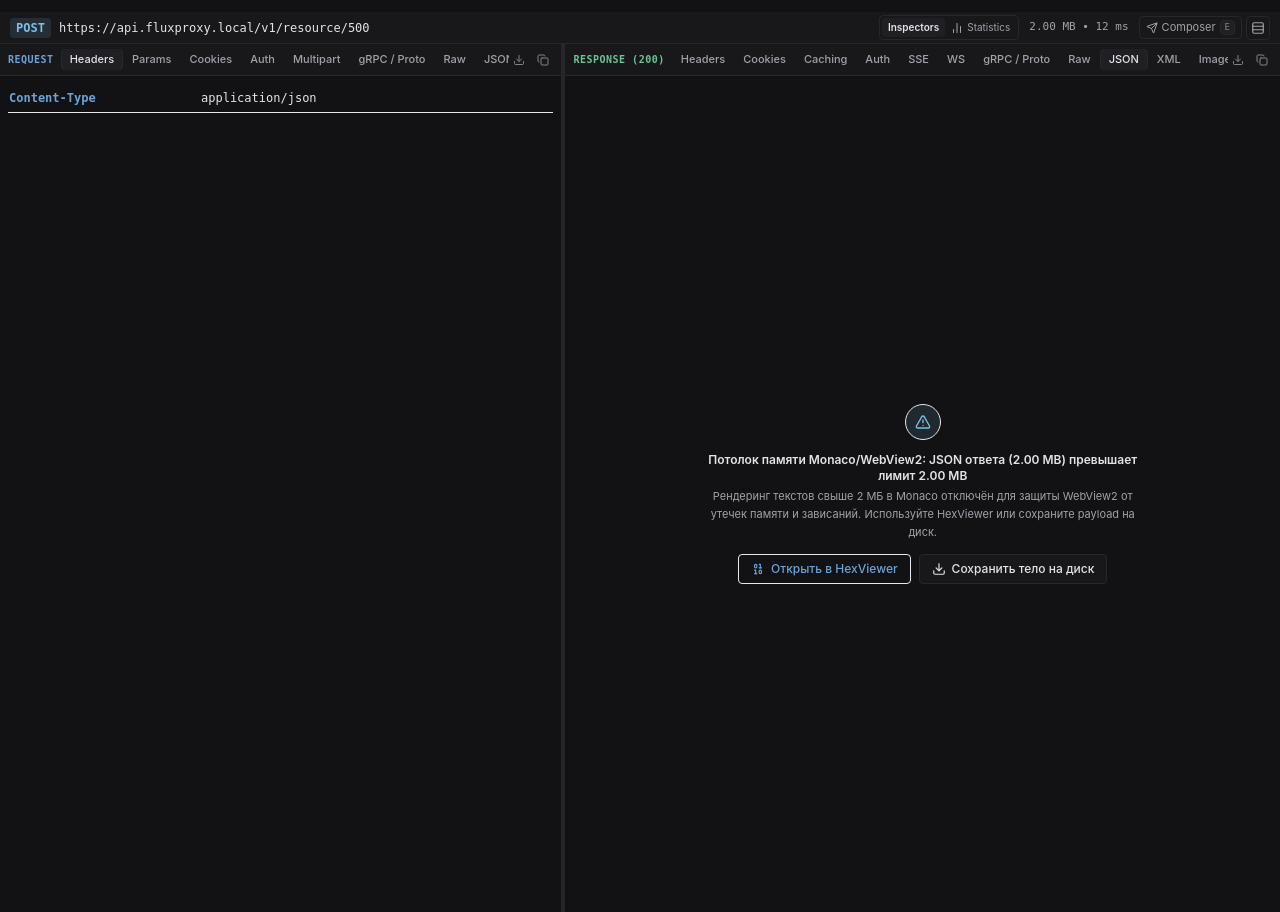
it: WebView2 / Monaco static memory ceiling [VER-03] › blocks Monaco rendering for payloads > 2 MiB and offers HexViewer and Save to Disk
Later steps or results of the test are not shown.
Check: the element with test id "monaco-size-guard-notice" is shown, box [708,404,1137,584]
Click the button "Сохранить тело на диск" at (1013, 569), box [919,554,1107,584]
Click the button "Открыть в HexViewer" at (824, 569), box [738,554,910,584]
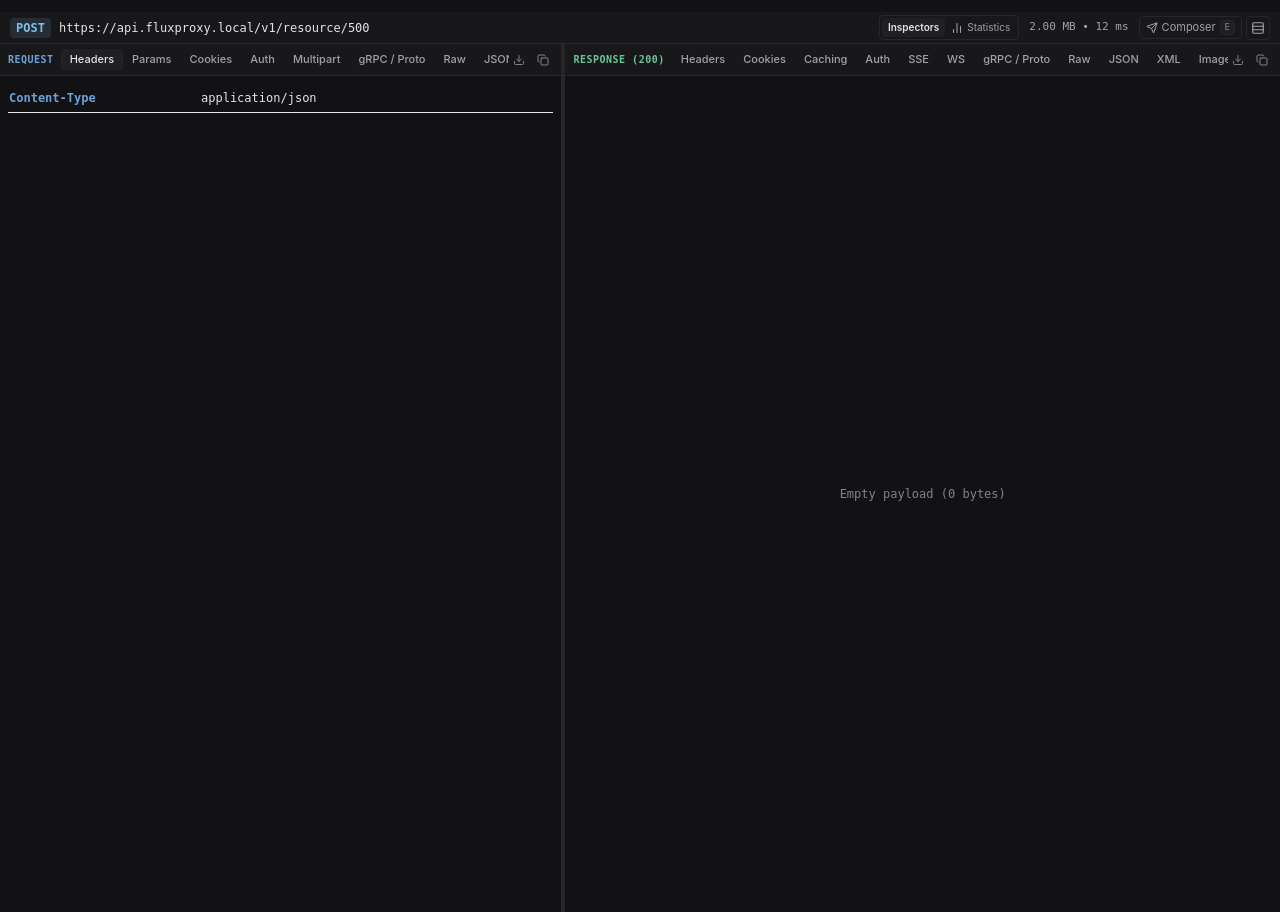
Check: the element with test id "monaco-size-guard-notice" is gone
